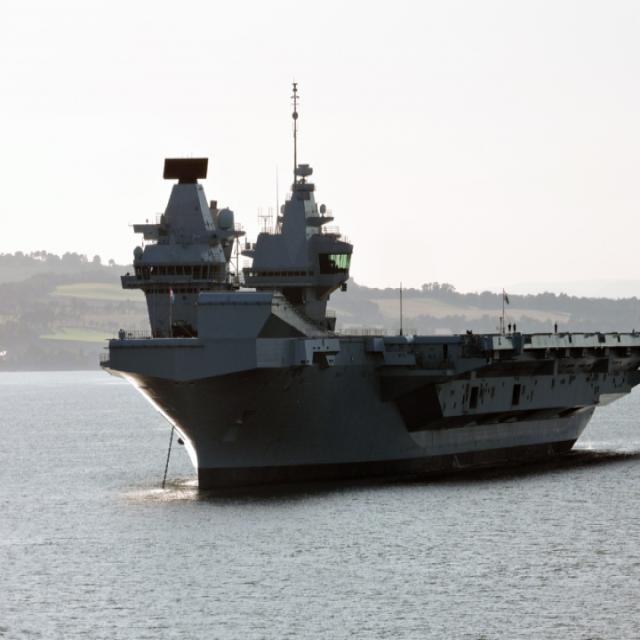Portanaves: (91, 81, 640, 506)
